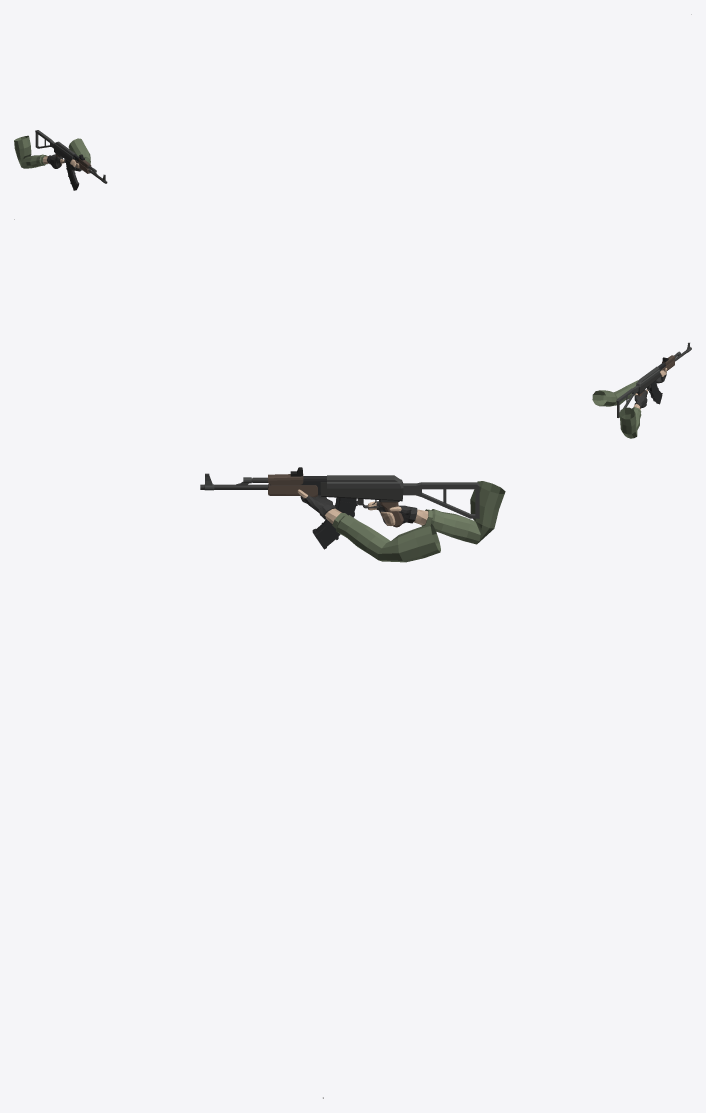
Rendered from fps02.glb.
3 views of the same model, one above another, from view 1: azimuth 30°, elevation 25°; view 2: azimuth 150°, elevation 25°; view 3: azimuth 270°, elevation 25° (orthographic). The views are drawn at different scales.
Parts seen in each view (by area): view 1: ArmModel, AssaultRifle_4; view 2: ArmModel, AssaultRifle_4; view 3: ArmModel, AssaultRifle_4.
Part boxes in pixels (x1=…): ArmModel: x1=14, y1=135, x2=90, y2=171; AssaultRifle_4: x1=35, y1=130, x2=107, y2=190; ArmModel: x1=592, y1=368, x2=667, y2=438; AssaultRifle_4: x1=616, y1=342, x2=691, y2=417; ArmModel: x1=297, y1=481, x2=505, y2=562; AssaultRifle_4: x1=200, y1=473, x2=479, y2=549.
Size of the model in its own units: 1.03 by 0.0666 by 0.2153.
